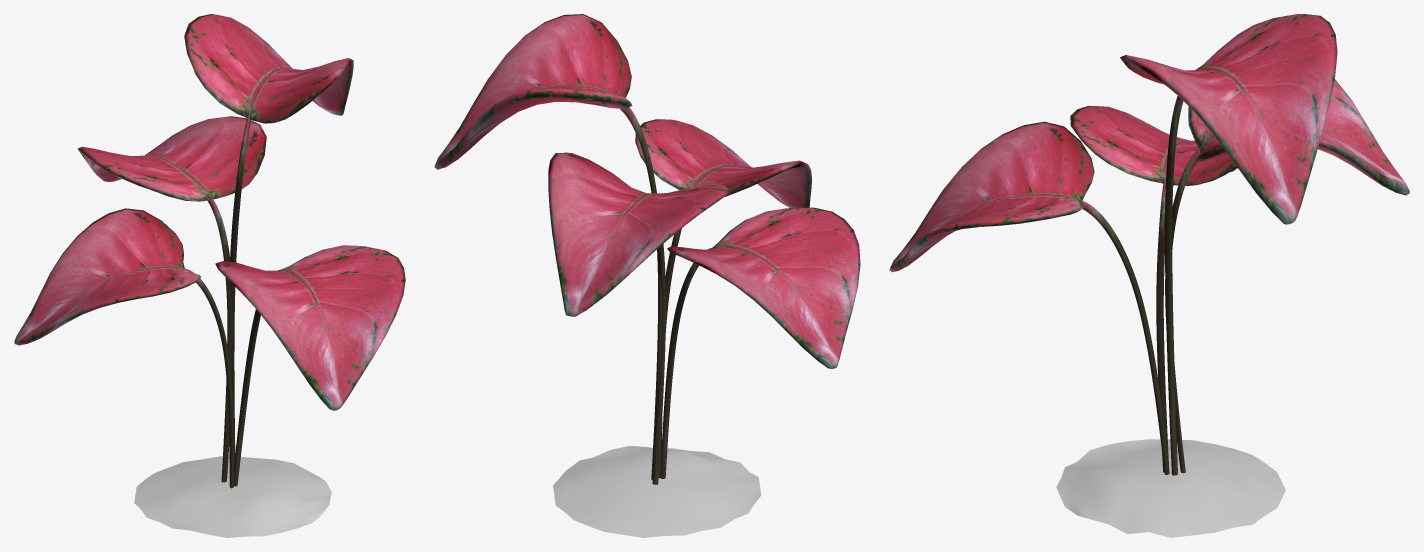
The model's file is aglao.fbx.
3 renders of one model, left to right at view 1: azimuth 30°, elevation 25°; view 2: azimuth 150°, elevation 25°; view 3: azimuth 270°, elevation 25°, orthographic. The views are drawn at different scales.
Parts seen in each view (by area): view 1: Plane.002, Plane.001, Circle, Plane.003, Plane, NurbsPath, NurbsPath.003, NurbsPath.001, NurbsPath.002; view 2: Plane.001, Plane, Circle, Plane.003, Plane.002, NurbsPath.001, NurbsPath, NurbsPath.003, NurbsPath.002; view 3: Plane.003, Circle, Plane.002, Plane.001, Plane, NurbsPath.003, NurbsPath.002, NurbsPath.001, NurbsPath.
Part boxes in pixels (box(x1,y1,x2,y2)): Plane.002: box(215, 245, 405, 410); Plane.001: box(14, 208, 200, 345); Circle: box(134, 456, 331, 537); Plane.003: box(184, 14, 353, 123); Plane: box(77, 116, 266, 201); NurbsPath: box(207, 197, 233, 482); NurbsPath.003: box(230, 115, 251, 465); NurbsPath.001: box(185, 268, 233, 488); NurbsPath.002: box(234, 270, 278, 486); Plane.001: box(667, 207, 860, 368); Plane: box(548, 152, 729, 316); Circle: box(553, 446, 761, 537); Plane.003: box(434, 14, 632, 169); Plane.002: box(635, 119, 811, 207); NurbsPath.001: box(660, 247, 712, 478); NurbsPath: box(652, 244, 665, 484); NurbsPath.003: box(620, 107, 662, 479); NurbsPath.002: box(658, 228, 681, 477); Plane.003: box(1120, 14, 1337, 224); Circle: box(1056, 439, 1285, 537); Plane.002: box(889, 121, 1094, 272); Plane.001: box(1070, 106, 1237, 185); Plane: box(1188, 79, 1409, 195); NurbsPath.003: box(1165, 96, 1183, 475); NurbsPath.002: box(1080, 200, 1169, 474); NurbsPath.001: box(1156, 181, 1169, 472); NurbsPath: box(1165, 146, 1201, 473).
Bounding box in the file's own units: 205 × 235 × 227.
